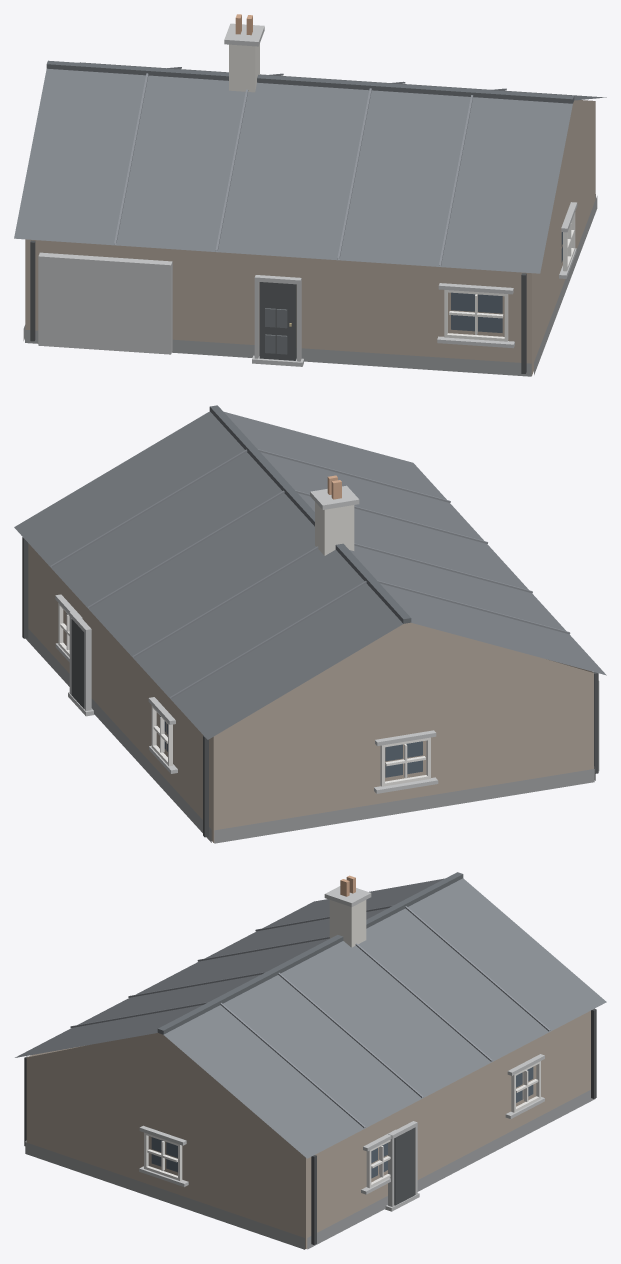
3 views of the same model, one above another, from view 1: azimuth 30°, elevation 25°; view 2: azimuth 150°, elevation 25°; view 3: azimuth 270°, elevation 25° (orthographic). The views are drawn at different scales.
Parts seen in each view (by area): view 1: slate, harl_brown, stone_band, plinth, slate_dk, door_dark, slate_lt, frame, chim_render, pipe, door_dark_p; view 2: slate, harl_brown, plinth, slate_lt, stone_band, slate_dk, frame, pipe, chim_render, door_dark; view 3: slate, harl_brown, plinth, slate_lt, stone_band, slate_dk, frame, chim_render, door_dark, pipe.
Boxes of the visible parts, x1,y1,x2,y2 form: slate: (14, 62, 606, 273); harl_brown: (25, 100, 595, 375); stone_band: (38, 23, 577, 366); plinth: (23, 194, 597, 376); slate_dk: (46, 60, 574, 103); door_dark: (259, 282, 296, 360); slate_lt: (114, 67, 506, 266); frame: (444, 212, 575, 341); chim_render: (229, 44, 259, 92); pipe: (30, 240, 526, 373); door_dark_p: (265, 308, 287, 354); slate: (14, 411, 606, 739); harl_brown: (28, 543, 593, 842); plinth: (26, 629, 595, 843); slate_lt: (51, 449, 570, 698); stone_band: (55, 485, 599, 793); slate_dk: (209, 405, 411, 623); frame: (58, 603, 430, 786); pipe: (22, 537, 598, 837); chim_render: (315, 502, 354, 555); door_dark: (71, 619, 84, 708); slate: (15, 878, 606, 1158); harl_brown: (26, 1010, 590, 1249); plinth: (25, 1090, 595, 1249); slate_lt: (70, 905, 550, 1128); stone_band: (139, 886, 544, 1211); slate_dk: (157, 872, 463, 1034); frame: (144, 1061, 540, 1188); chim_render: (329, 900, 366, 947); door_dark: (394, 1127, 414, 1205); pipe: (24, 1008, 596, 1245).
Bounding box in the file's own units: 16.42 × 6.79 × 16.
